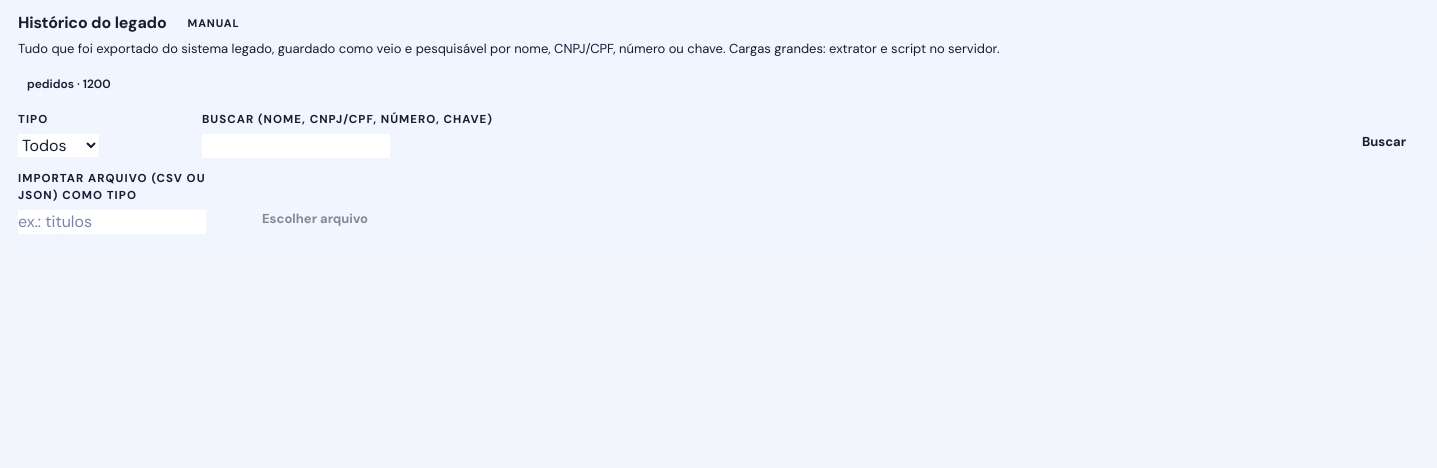
Histórico do legado › mostra o resumo, busca e abre o registro
Click the button "pedidos · 1200": (69, 82) [18, 70, 120, 94]
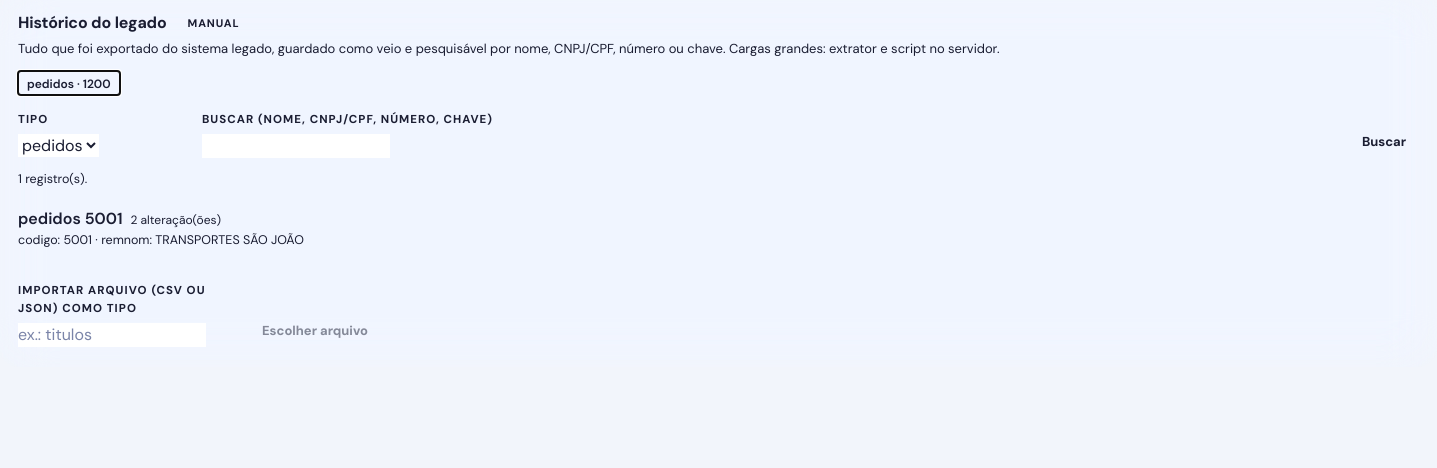
Result: the text "codigo: 5001 · remnom: TRANSPORTES SÃO JOÃO" is shown at [18, 232, 304, 248]
Result: the text "2 alteração(ões)" is shown at [130, 212, 221, 228]
Click the button "pedidos 5001": (49, 218) [18, 206, 1418, 249]
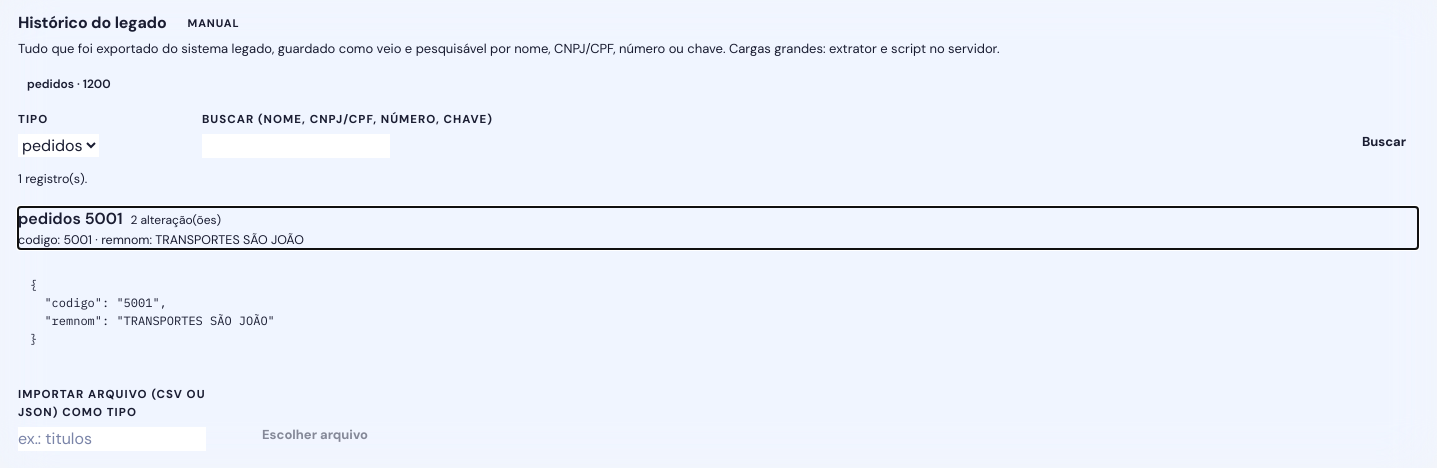
Result: the text "{ \"codigo\": \"5001\", \"remnom\": \"TRANSPORTES SÃO JOÃO\" }" is shown at [30, 277, 275, 346]
